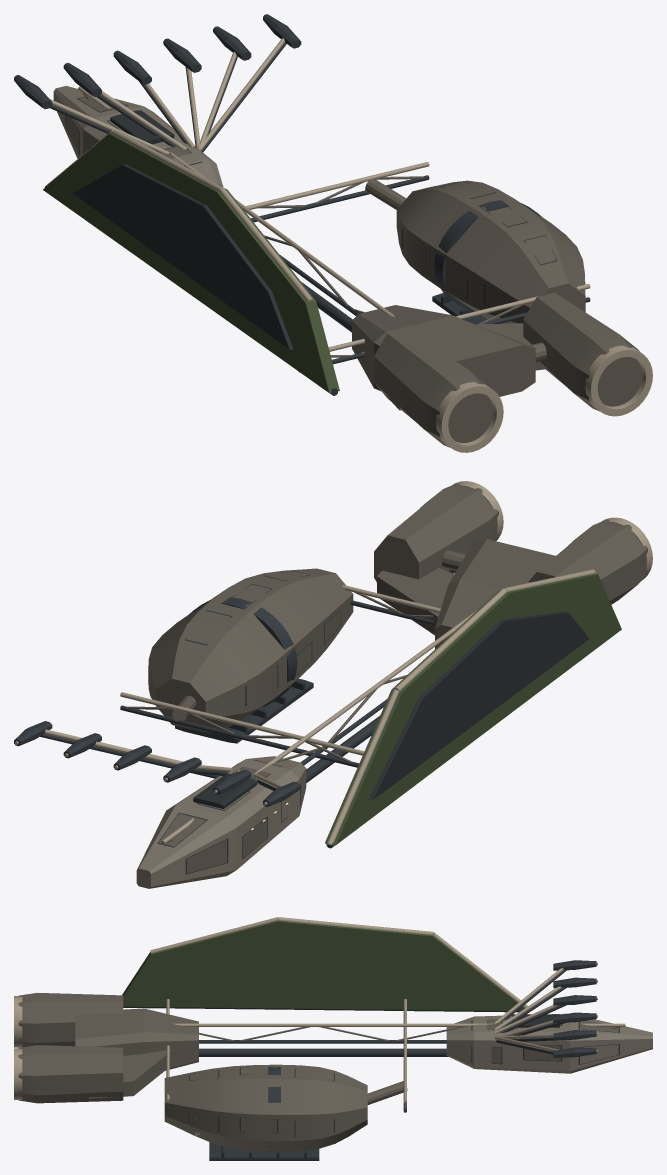
The model's file is battleship_roaming_tempest.glb.
3 renders of one model, top to bottom at view 1: azimuth 30°, elevation 25°; view 2: azimuth 150°, elevation 25°; view 3: azimuth 270°, elevation 25°, orthographic. The views are drawn at different scales.
Parts seen in each view (by area): view 1: v4_roaming_secondary, v4_roaming_paint, v4_roaming_ceramic, v4_roaming_trim, v4_roaming_dark, v4_roaming_hull; view 2: v4_roaming_secondary, v4_roaming_ceramic, v4_roaming_paint, v4_roaming_dark, v4_roaming_hull, v4_roaming_trim; view 3: v4_roaming_secondary, v4_roaming_paint, v4_roaming_dark, v4_roaming_hull, v4_roaming_trim, v4_roaming_ceramic.
Boxes of the visible parts, <box> form: v4_roaming_secondary: <box>53,93,642,447</box>; v4_roaming_paint: <box>43,132,339,393</box>; v4_roaming_ceramic: <box>73,110,474,349</box>; v4_roaming_trim: <box>45,38,652,452</box>; v4_roaming_dark: <box>14,14,590,395</box>; v4_roaming_hull: <box>53,86,223,186</box>; v4_roaming_secondary: <box>58,483,647,873</box>; v4_roaming_ceramic: <box>193,611,589,808</box>; v4_roaming_paint: <box>325,573,621,845</box>; v4_roaming_dark: <box>14,571,581,874</box>; v4_roaming_hull: <box>136,756,306,888</box>; v4_roaming_trim: <box>15,481,652,845</box>; v4_roaming_secondary: <box>18,974,625,1152</box>; v4_roaming_paint: <box>122,920,524,1011</box>; v4_roaming_dark: <box>123,960,619,1160</box>; v4_roaming_hull: <box>446,1013,652,1073</box>; v4_roaming_trim: <box>14,917,625,1135</box>; v4_roaming_ceramic: <box>221,1014,559,1157</box>.
Bounding box in the file's own units: 89.58 × 49.02 × 204.
